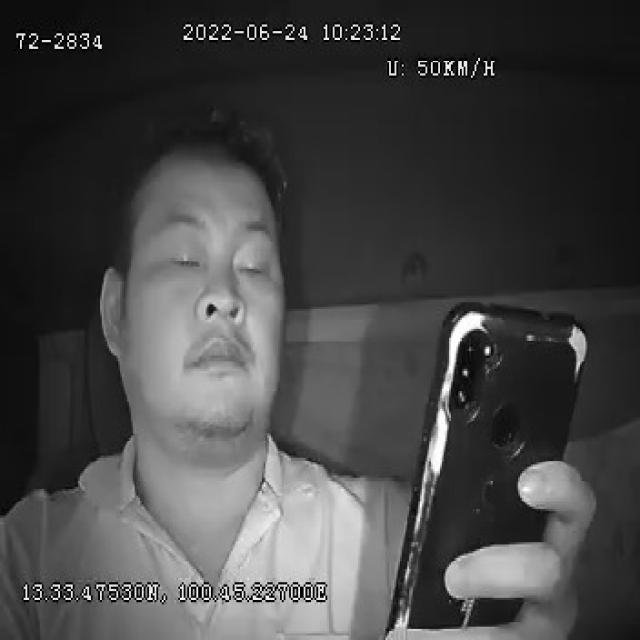phone: (387, 303, 582, 640)
